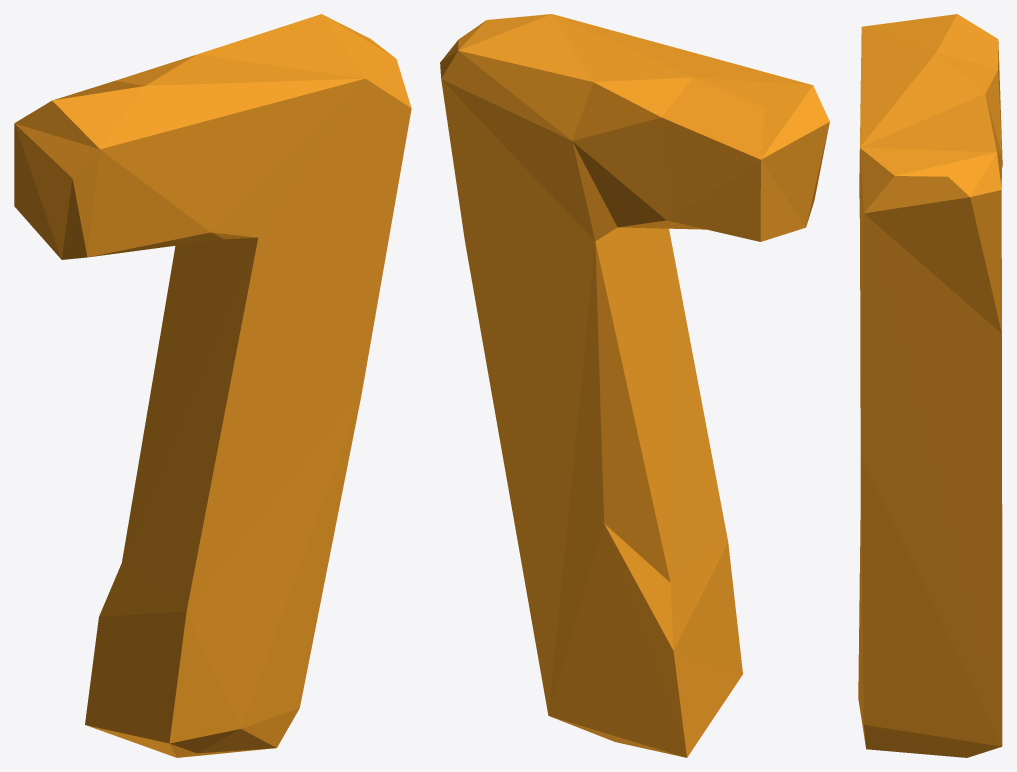
File: SM_Icon_Number_7_01.fbx
The picture shows the model from 3 angles, left to right: view 1: azimuth 30°, elevation 25°; view 2: azimuth 150°, elevation 25°; view 3: azimuth 270°, elevation 25°; orthographic projection.
Visible parts, largest first — view 1: SM_Icon_Number_7_01; view 2: SM_Icon_Number_7_01; view 3: SM_Icon_Number_7_01.
Boxes of the visible parts, x1,y1,x2,y2 form: SM_Icon_Number_7_01: (14, 14, 411, 757); SM_Icon_Number_7_01: (440, 14, 829, 757); SM_Icon_Number_7_01: (858, 14, 1002, 757).
Bounding box in the file's own units: 28.85 × 53.41 × 10.61.
